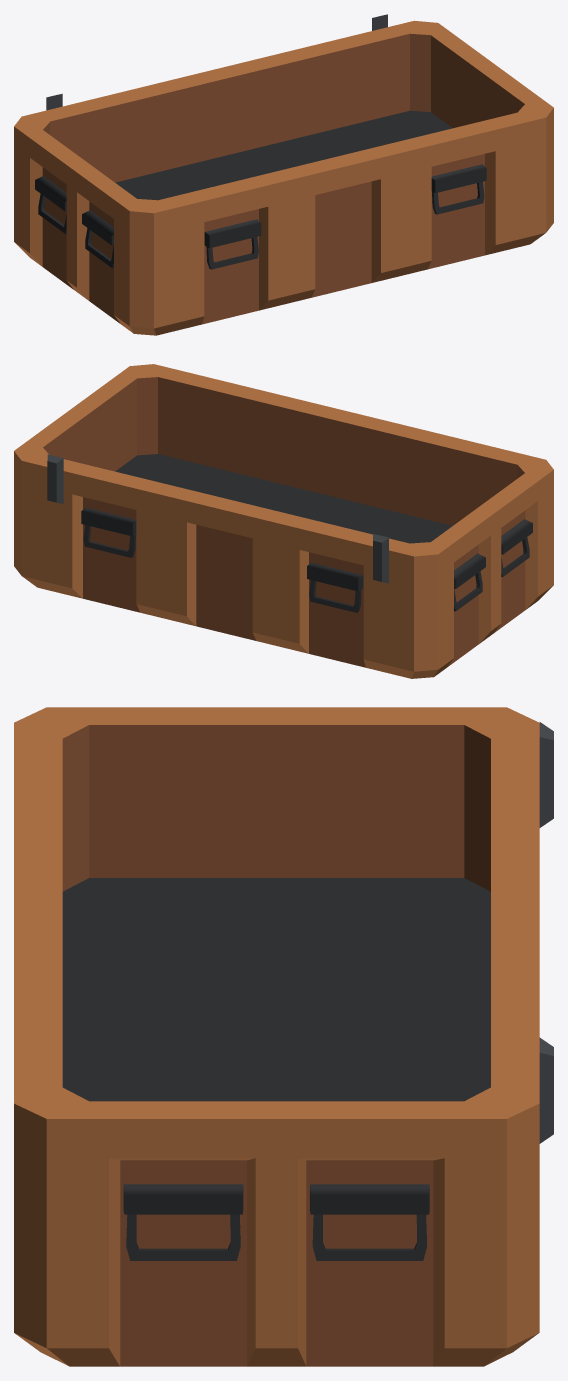
File: SM_Prop_Crate_Plastic_01.fbx
3 views of the same model, one above another, from view 1: azimuth 30°, elevation 25°; view 2: azimuth 150°, elevation 25°; view 3: azimuth 270°, elevation 25° (orthographic). The views are drawn at different scales.
Visible parts, largest first — view 1: SM_Prop_Crate_Plastic_01; view 2: SM_Prop_Crate_Plastic_01; view 3: SM_Prop_Crate_Plastic_01.
Boxes of the visible parts, x1=… form: SM_Prop_Crate_Plastic_01: x1=14, y1=14, x2=553, y2=335; SM_Prop_Crate_Plastic_01: x1=14, y1=364, x2=553, y2=678; SM_Prop_Crate_Plastic_01: x1=14, y1=707, x2=553, y2=1366.
Size of the model in its own units: 144 by 46.15 by 79.8.
